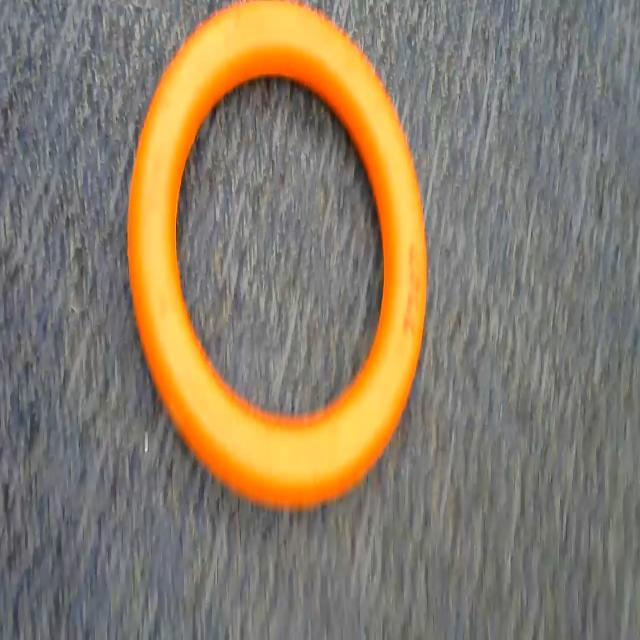note: (114, 0, 423, 535)
